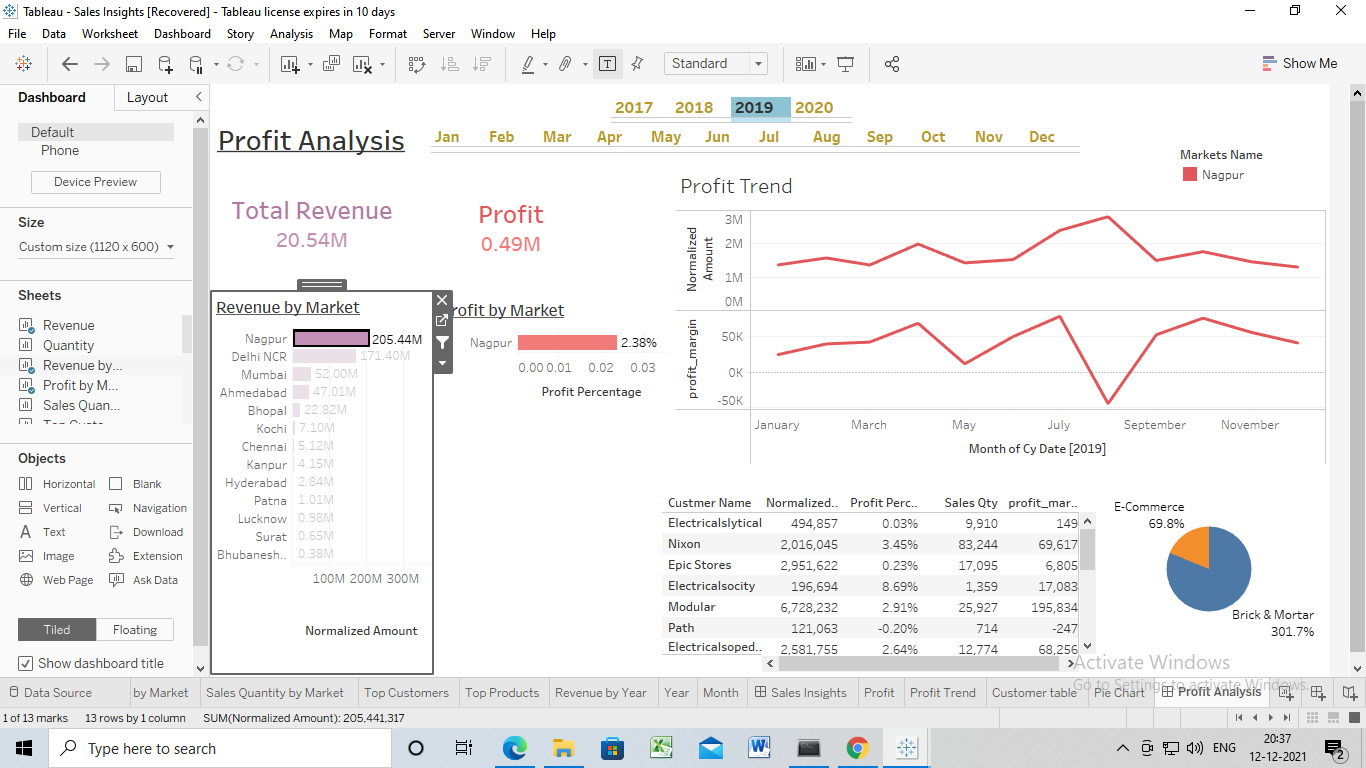

The dashboard page shown, as its layout file describes it:
{"tool":"tableau","page":{"name":"Profit Analysis","canvas":[1120,600],"ordinal":0},"visuals":[{"type":"title","box":[5,13,195,84]},{"type":"worksheet","title":"Year","mark":"Automatic","cols":["cy_date"],"box":[401.2,13,245.4,29]},{"type":"worksheet","title":"Month","mark":"Automatic","cols":["cy_date"],"box":[220.9,42,664.9,29]},{"type":"legend","title":"Profit Trend","param":"[federated.1wrotgx1kiv2ew12km91h0g3ou01].[none:markets_name:nk]","box":[970,62,140,58]},{"type":"worksheet","title":"Profit Trend","mark":"Bar","rows":["Calculation_901001447928795136","sales_qty"],"cols":["cy_date"],"box":[466,83,650,298]},{"type":"worksheet","title":"Revenue","mark":"Automatic","box":[12.2,108,184.3,61]},{"type":"worksheet","title":"Profit","mark":"Automatic","box":[261,112,102,68]},{"type":"worksheet","title":"Revenue by Market","mark":"Automatic","rows":["markets_name"],"cols":["Calculation_901001447928795136"],"box":[2,208,219.9,381]},{"type":"worksheet","title":"Profit by Market","mark":"Automatic","rows":["markets_name"],"cols":["Calculation_541839377881427968"],"box":[227,211,229,365]},{"type":"worksheet","title":"Pie Chart","mark":"Pie","box":[893,400,212,170]},{"type":"worksheet","title":"Customer table","mark":"Automatic","rows":["custmer_name"],"box":[452,408,434,180]}]}

Visuals, with their boxes on the page's 1120x600 design canvas (x1, y1, x2, y2). These are canvas units, not pixel positions in the 1366x768 screenshot, which may show the page scaled, cropped or inside an application window:
title: 5, 13, 200, 97
"Year" worksheet: 401, 13, 647, 42
"Month" worksheet: 221, 42, 886, 71
"Profit Trend" legend: 970, 62, 1110, 120
"Profit Trend" worksheet (Bar marks): 466, 83, 1116, 381
"Revenue" worksheet: 12, 108, 196, 169
"Profit" worksheet: 261, 112, 363, 180
"Revenue by Market" worksheet: 2, 208, 222, 589
"Profit by Market" worksheet: 227, 211, 456, 576
"Pie Chart" worksheet (Pie marks): 893, 400, 1105, 570
"Customer table" worksheet: 452, 408, 886, 588
